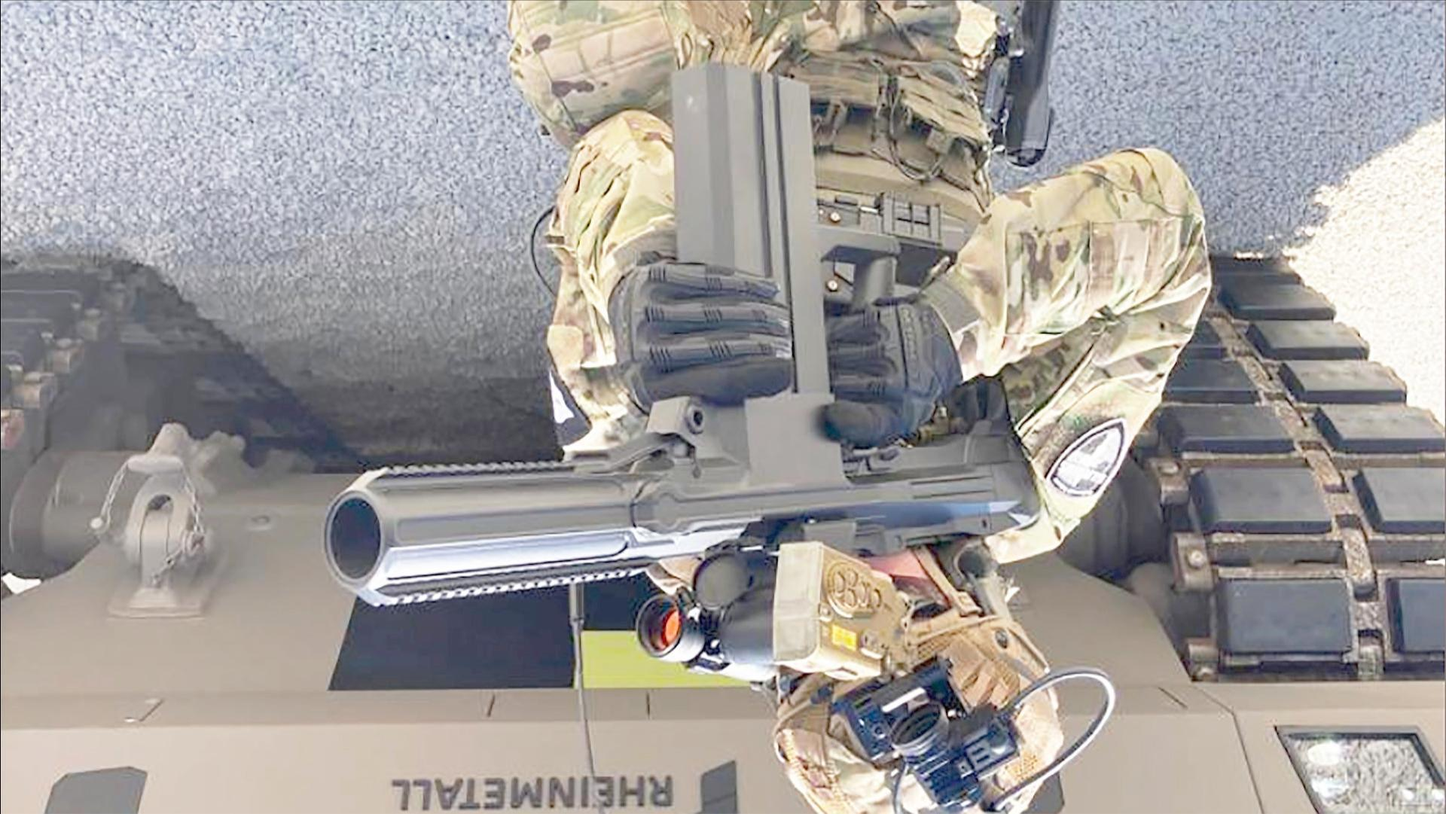gun: (313, 51, 1036, 613)
